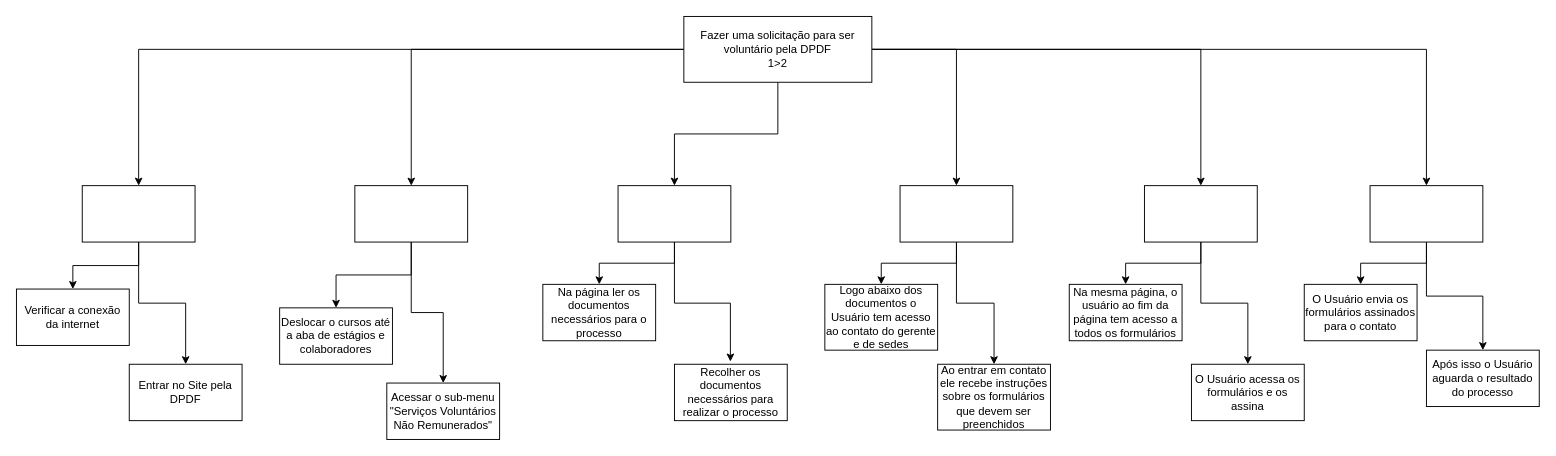
The diagram is 1556 pixels wide and 456 high, and some of its shapes have lost their labels. The shapes that lost their labels are listed below. From the top down, each one's centre as x and y in pixels, then its label:
At [138,213]: "Acessar o site da defensoria 1>2".
At [411,213]: "Acessar a área para se voluntariar 1>2".
At [674,213]: "Ter os requisitos do processo 1>2".
At [956,213]: "Entrar em contato com gerente de voluntáriado 1>2".
At [1200,213]: "Assinar os Formulários 1>2".
At [1426,213]: "Conclusão do processo".
